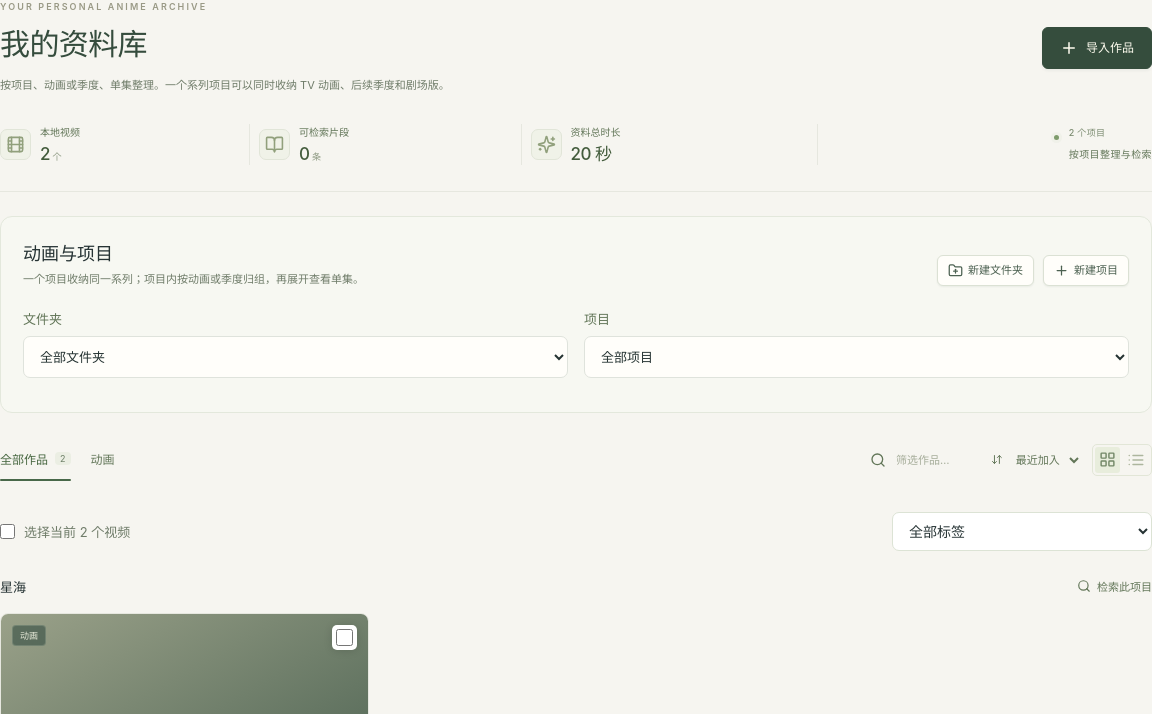
Test: Projects, hierarchy, and search › creates a tagged project in the selected nested folder
Select "动画 / 长篇" in the dropdown labelled "文件夹" at (296, 358), box [23,336,568,378]
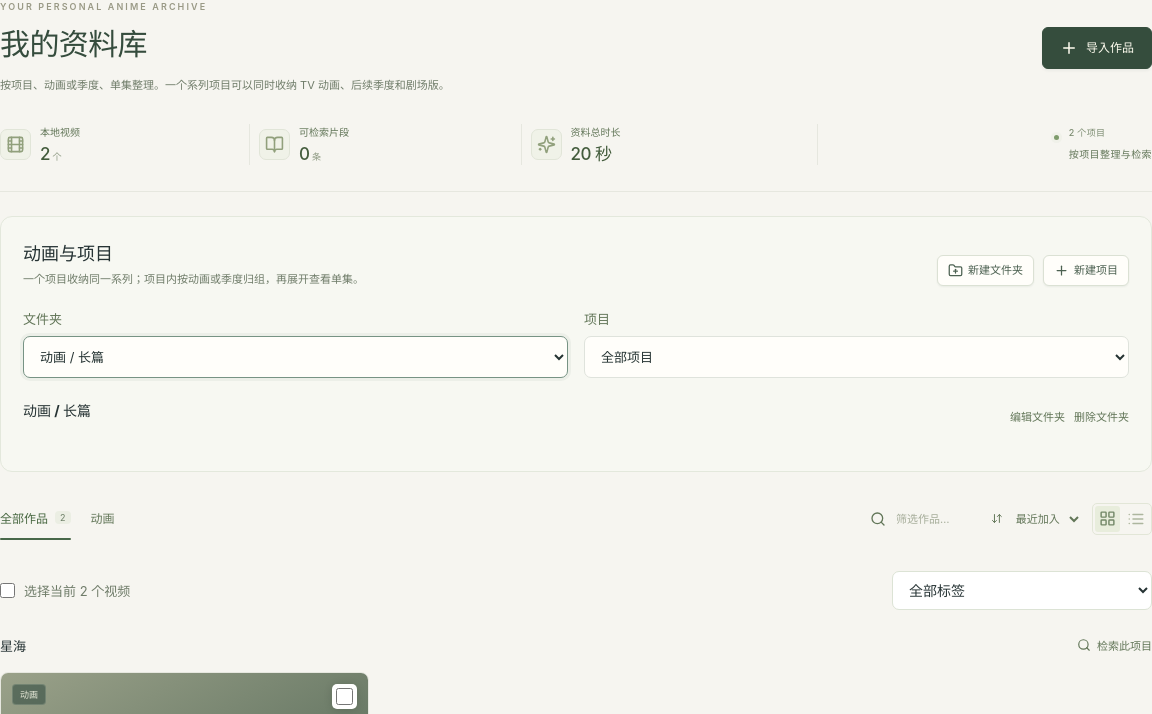
Click the button "新建项目" at (1086, 271), box [1043,255,1129,286]
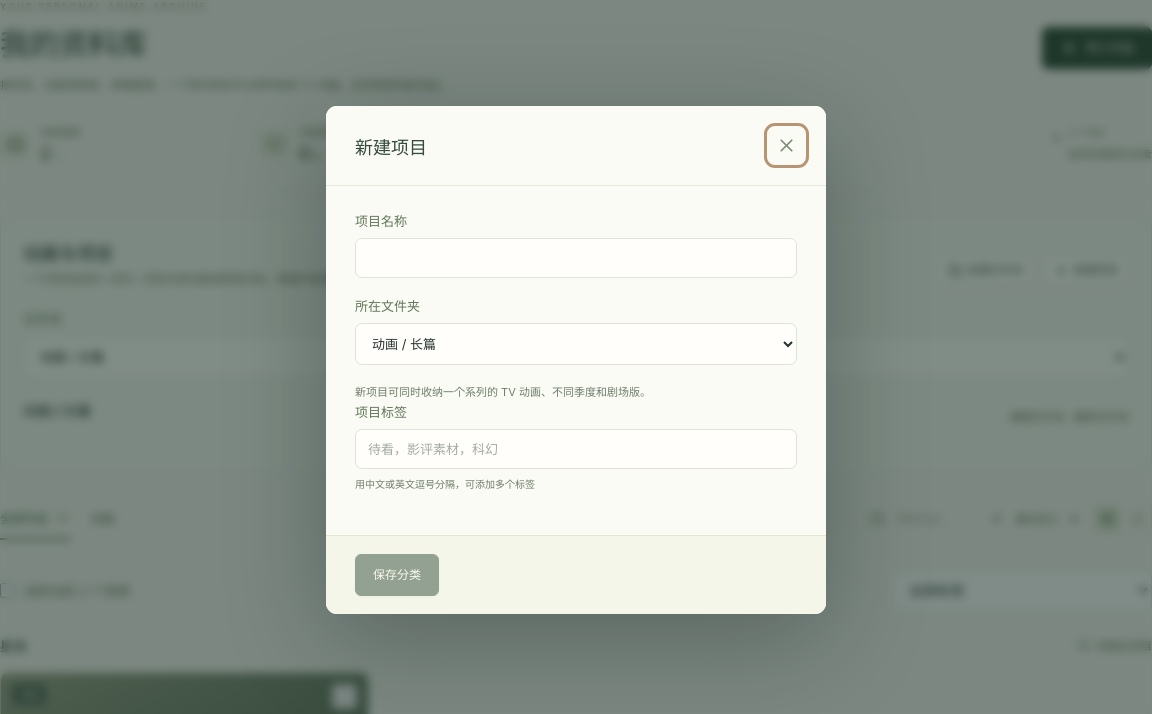
Type "新动画" into the field labelled "项目名称" at (576, 258), box [355,238,797,278]
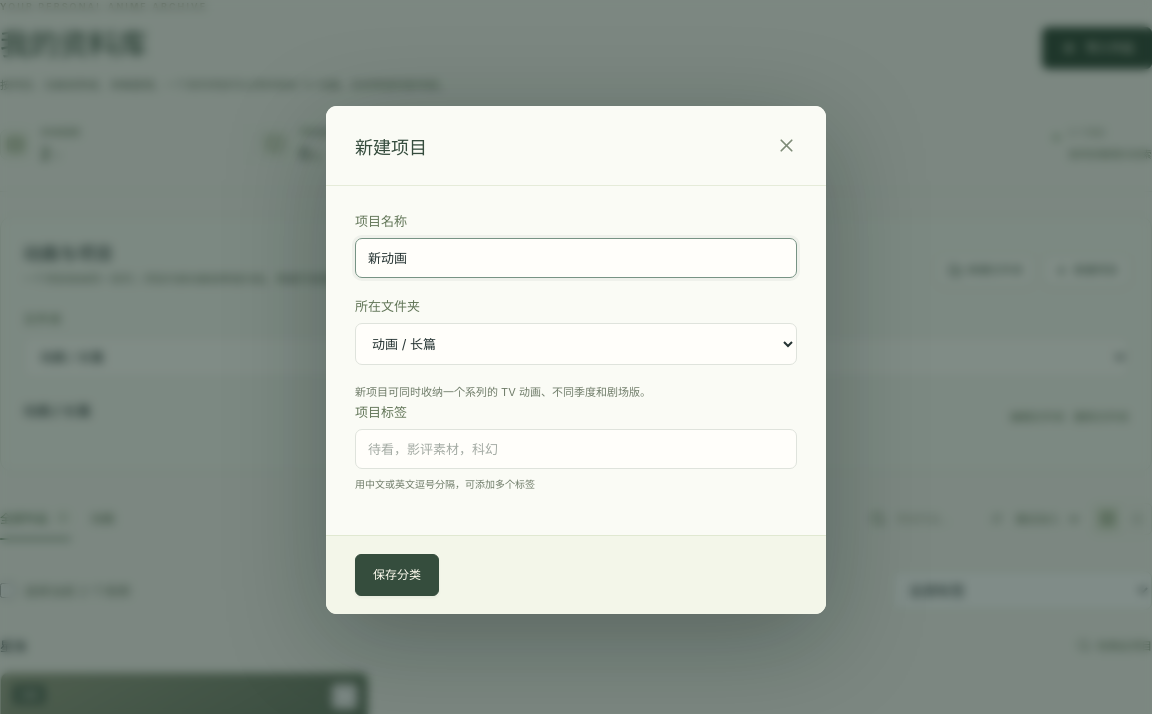
Type "科幻，收藏,科幻" into the field labelled "项目标签 用中文或英文逗号分隔，可添加多个标签" at (576, 449), box [355,429,797,469]
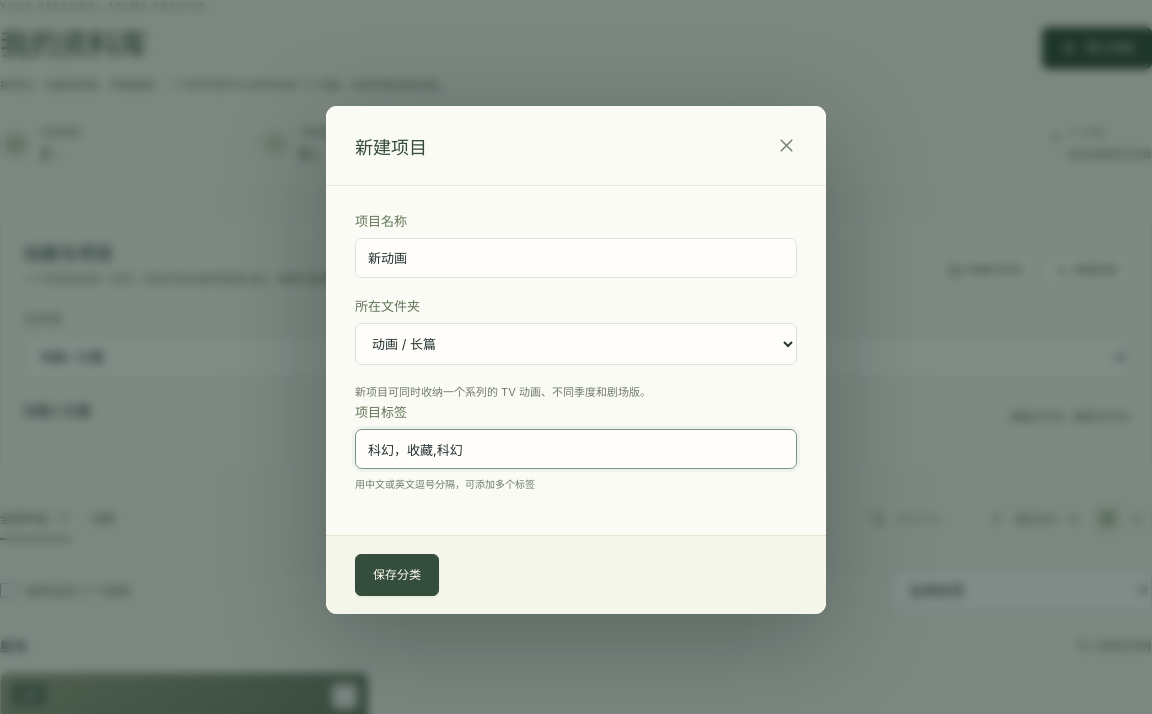
Click the button "保存分类" at (397, 575), box [355,554,439,596]
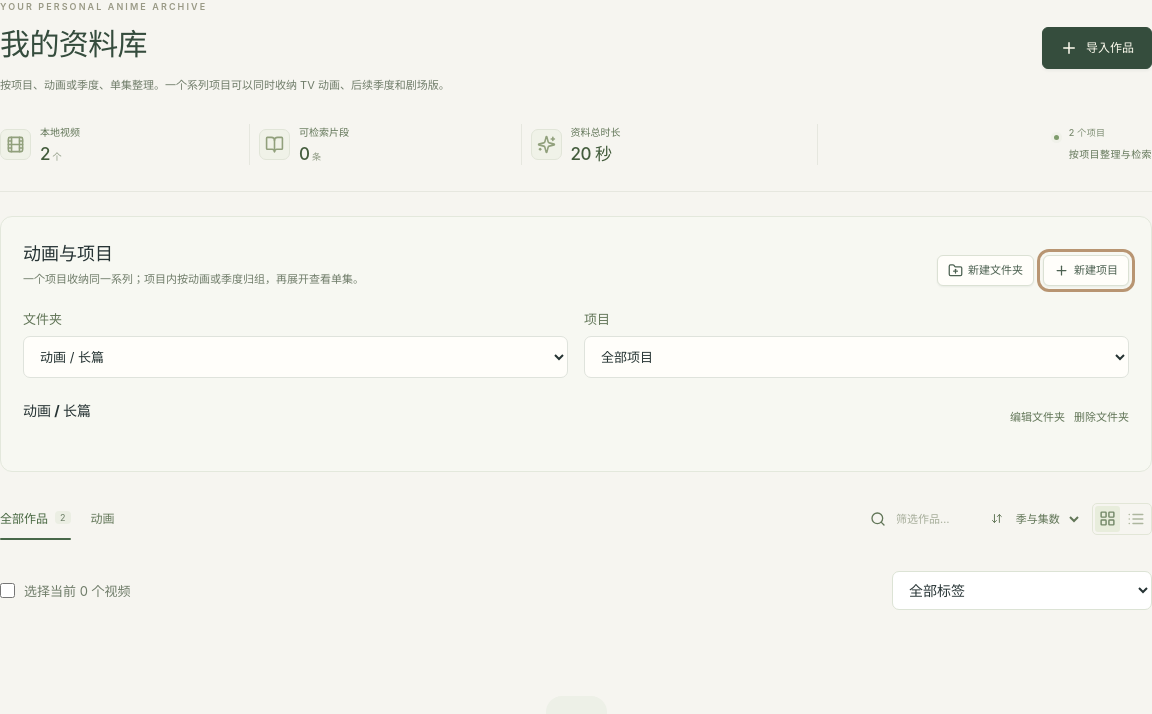
Expected: the dialog is gone
